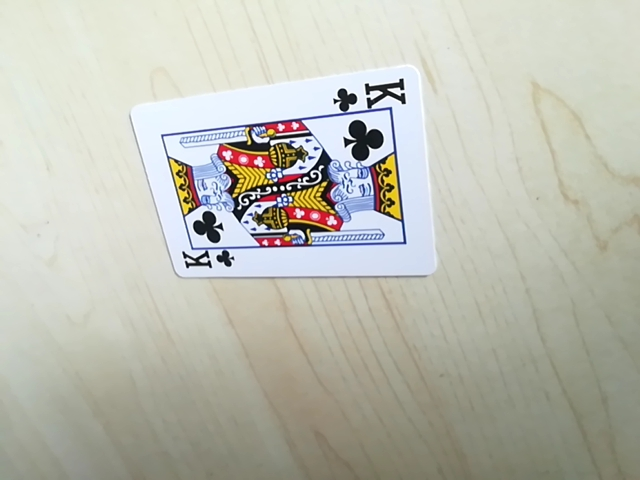mh k: (338, 74, 410, 113), (174, 247, 234, 278)
